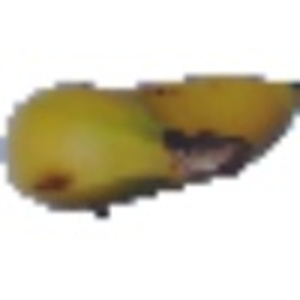banana: (3, 66, 295, 217)
